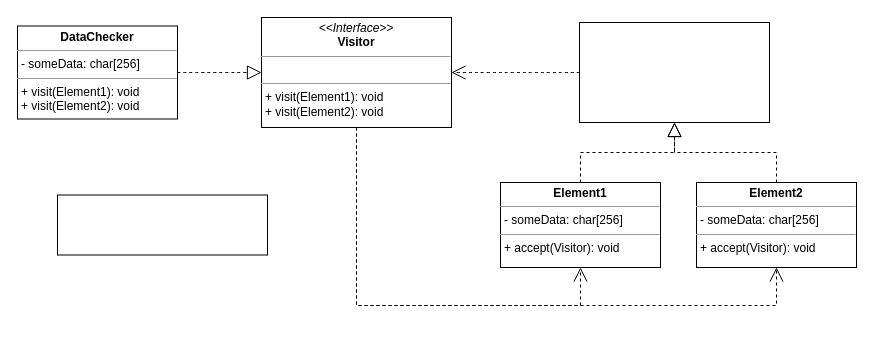
Image size: 874x337. Some labels were removed from this diagram. Each missing label, with the centre of its shape:
"<<Interface>> Element + accept(Visitor): void" goes at pixel 674 72.
"Each implemetation of accept() calls for correct visit() method of visitor" goes at pixel 162 224.
